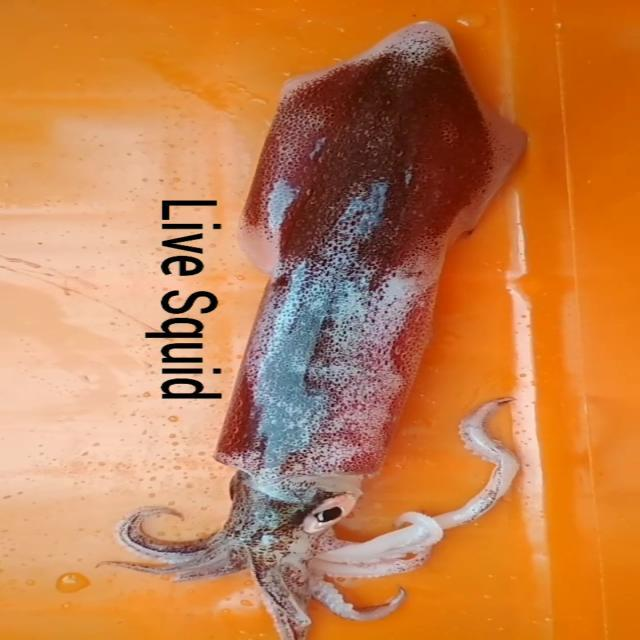squid: (93, 23, 530, 640)
